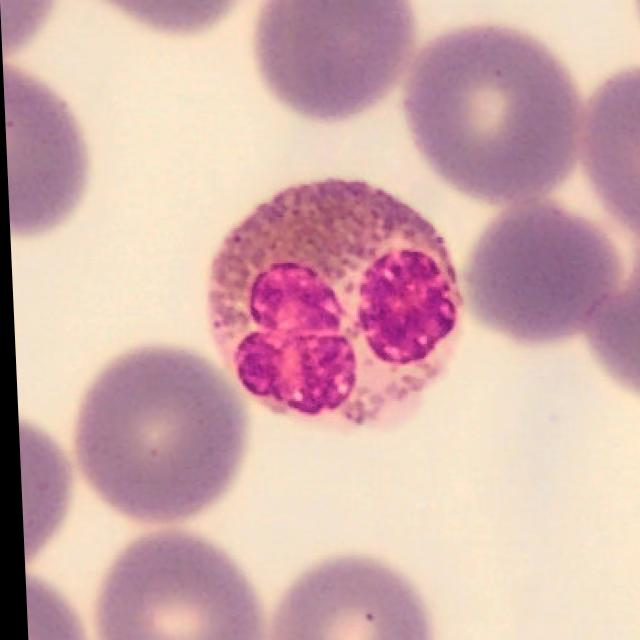Eosinofilo: (205, 178, 463, 430)
